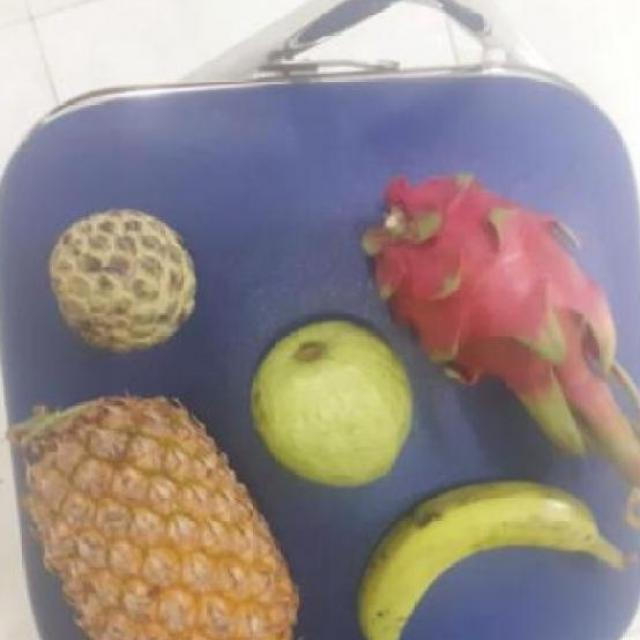dragon fruit: (372, 165, 619, 403)
guava: (250, 318, 422, 483)
pineapple: (23, 395, 298, 640)
sugar apple: (48, 208, 204, 349)
